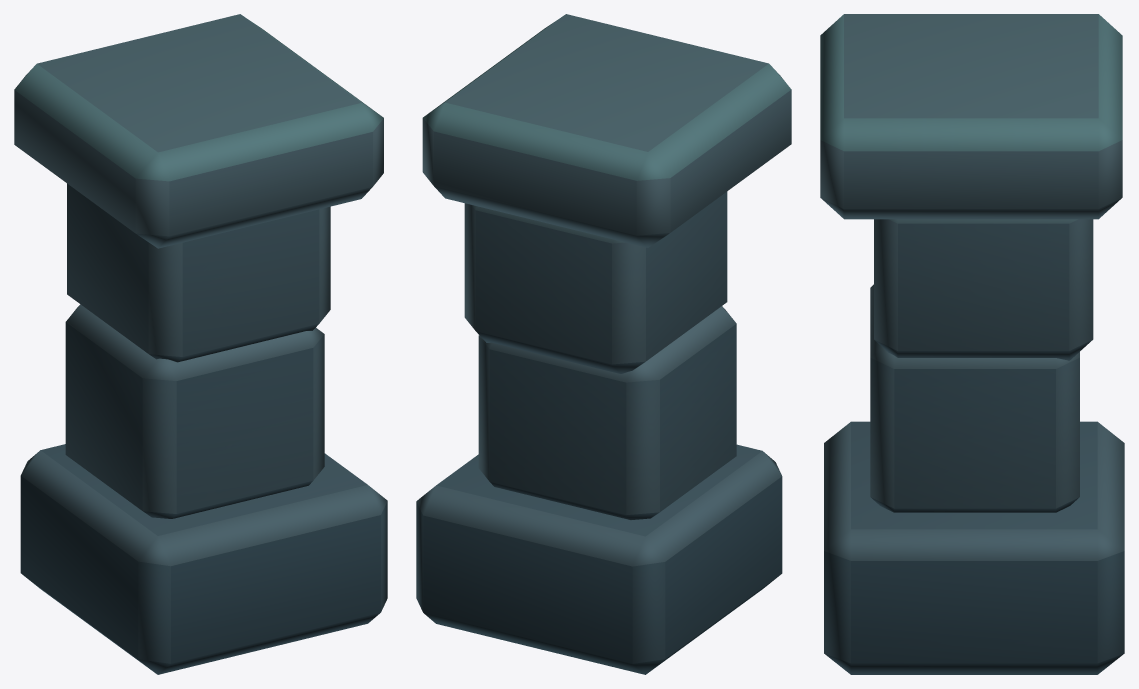
Rendered from fence_pillar_2.fbx.
3 views of the same model, side by side, from view 1: azimuth 30°, elevation 25°; view 2: azimuth 150°, elevation 25°; view 3: azimuth 270°, elevation 25° (orthographic). The views are drawn at different scales.
Visible parts, largest first — view 1: fence_pillar_2; view 2: fence_pillar_2; view 3: fence_pillar_2.
Boxes of the visible parts, x1,y1,x2,y2 form: fence_pillar_2: (14,14,387,674); fence_pillar_2: (416,14,791,674); fence_pillar_2: (820,14,1124,674).
Size of the model in its own units: 77.8 by 153 by 76.56.
